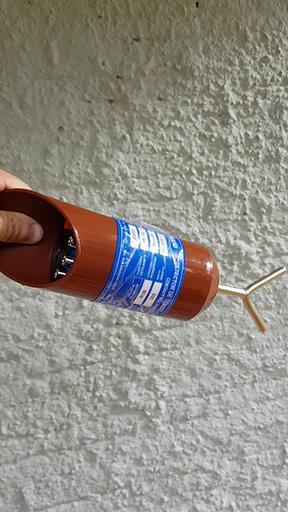Detector_Tensao_Contato: (1, 189, 286, 332)
